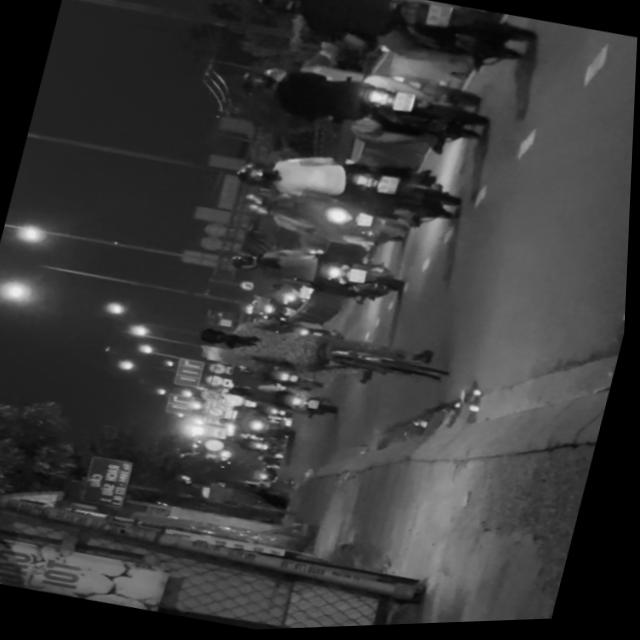helmet: (252, 0, 304, 21)
licenseplate: (242, 0, 538, 93)
nohelmet: (422, 3, 451, 31)
